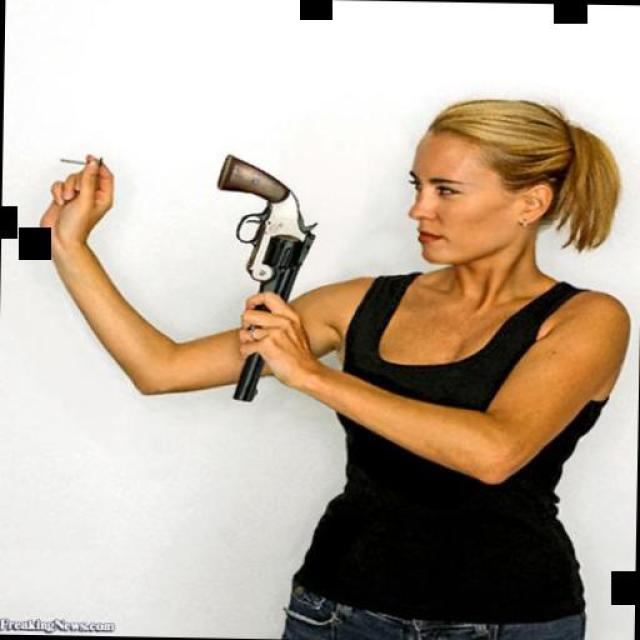gun: (196, 148, 319, 402)
